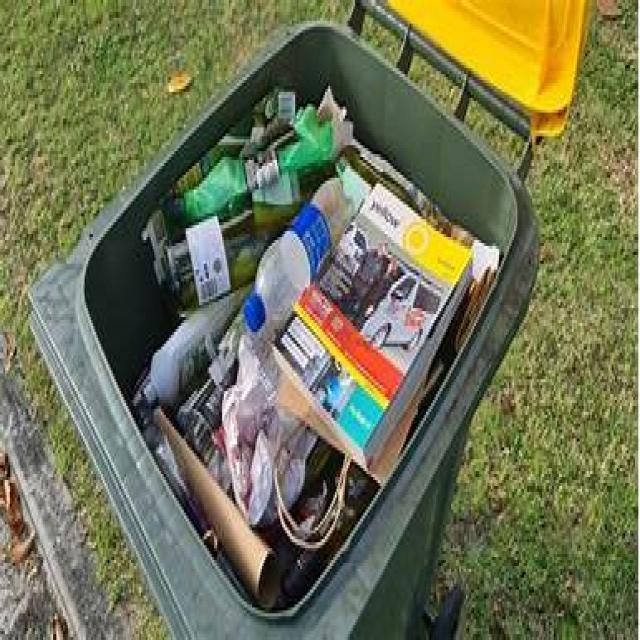Cardboard: (154, 407, 281, 608)
Garbage: (131, 87, 500, 609)
Plastic_bottle: (244, 176, 352, 338)
